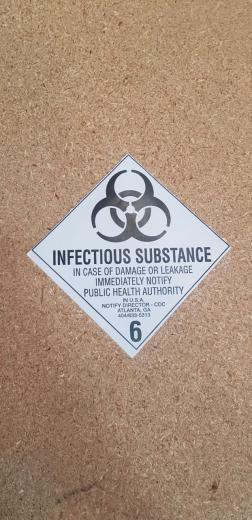infectious-substance: (22, 156, 229, 356)
